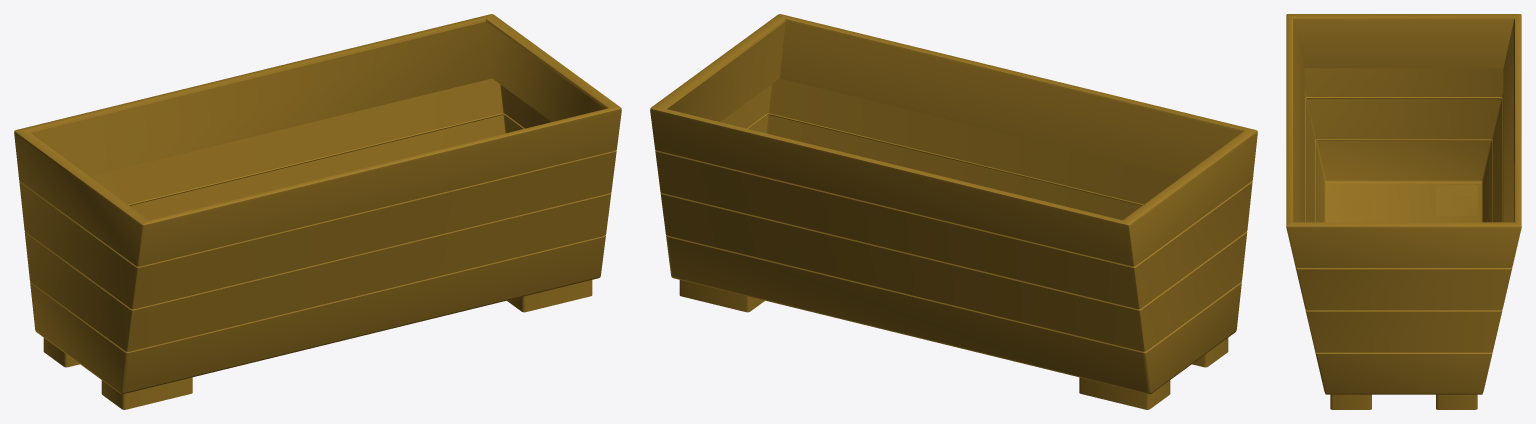
The model's file is Pot_10.FBX.
3 views of the same model, side by side, from view 1: azimuth 30°, elevation 25°; view 2: azimuth 150°, elevation 25°; view 3: azimuth 270°, elevation 25° (orthographic). The views are drawn at different scales.
Visible parts, largest first — view 1: Pot_10; view 2: Pot_10; view 3: Pot_10.
Part boxes in pixels (left/top/right/bottom): Pot_10: left=14, top=14, right=621, bottom=409; Pot_10: left=650, top=14, right=1257, bottom=409; Pot_10: left=1286, top=14, right=1521, bottom=409.
Size of the model in its own units: 92.12 by 37.48 by 43.
